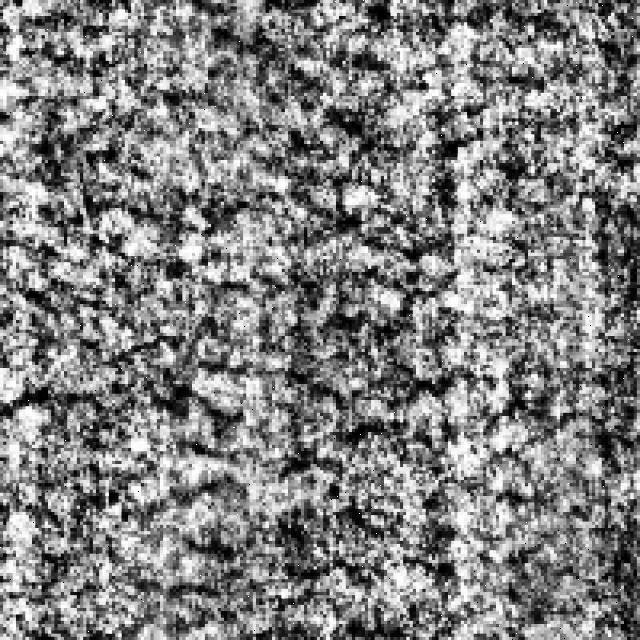Pitted_Surface: (3, 307, 611, 576)
